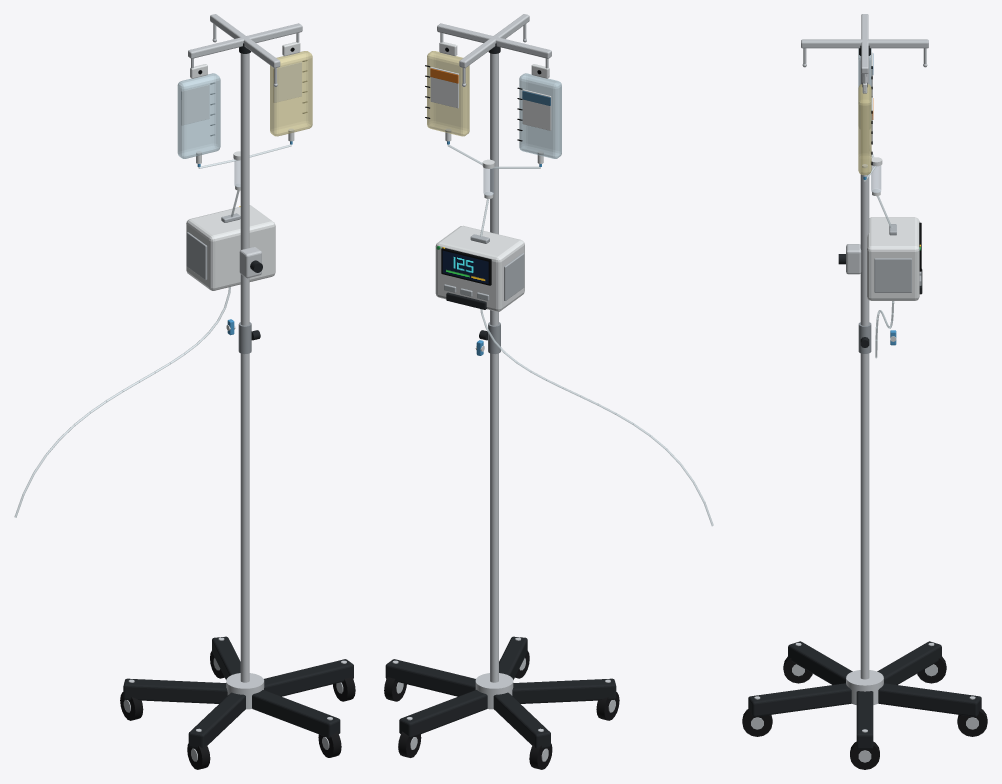
The model's file is IV_Stand_Pump.glb.
3 renders of one model, left to right at view 1: azimuth 30°, elevation 25°; view 2: azimuth 150°, elevation 25°; view 3: azimuth 270°, elevation 25°, orthographic.
Visible parts, largest first — view 1: Pole, Pump, IVBag0, IVBag1, Leg2.001, Leg4.001, Leg0.001, Leg3.001, HookArmX, IVLabel0, IVLabel1, Leg1.001 (+3 smaller); view 2: Pole, Pump, IVBag0, IVBag1, Leg3.001, Leg1.001, Leg0.001, Leg2.001, HookArmX, PumpScreen, IVLabel0, Leg4.001 (+4 smaller); view 3: Pole, Pump, Leg1.001, Leg4.001, Leg2.001, Leg3.001, PumpSideGrip.001, IVBag1, HookArmY, Leg0.001, Hub.001, Wheel.009 (+4 smaller).
Part boxes in pixels (<box>): Pole: <box>240,53,249,682</box>; Pump: <box>186,205,275,290</box>; IVBag0: <box>177,73,220,158</box>; IVBag1: <box>270,51,312,136</box>; Leg2.001: <box>123,678,227,703</box>; Leg4.001: <box>252,690,340,738</box>; Leg0.001: <box>264,659,353,696</box>; Leg3.001: <box>188,692,245,748</box>; HookArmX: <box>188,23,302,58</box>; IVLabel0: <box>181,84,209,125</box>; IVLabel1: <box>274,62,301,102</box>; Leg1.001: <box>212,636,240,679</box>; Pole: <box>490,53,498,682</box>; Pump: <box>435,225,524,311</box>; IVBag0: <box>519,73,561,158</box>; IVBag1: <box>427,51,469,136</box>; Leg3.001: <box>512,678,616,703</box>; Leg1.001: <box>399,690,487,738</box>; Leg0.001: <box>385,659,475,696</box>; Leg2.001: <box>493,692,550,748</box>; HookArmX: <box>437,23,551,58</box>; PumpScreen: <box>442,250,488,283</box>; IVLabel0: <box>522,89,551,130</box>; Leg4.001: <box>499,636,527,679</box>; Pole: <box>860,56,869,679</box>; Pump: <box>867,217,919,300</box>; Leg1.001: <box>878,683,981,716</box>; Leg4.001: <box>748,683,851,716</box>; Leg2.001: <box>877,641,941,684</box>; Leg3.001: <box>788,641,852,684</box>; PumpSideGrip.001: <box>874,258,911,292</box>; IVBag1: <box>858,84,871,174</box>; HookArmY: <box>801,39,928,48</box>; Leg0.001: <box>856,691,873,749</box>; Hub.001: <box>846,670,883,704</box>; Wheel.009: <box>850,741,879,769</box>.
Bounding box in the file's own units: 1 × 1.99 × 0.6506.
17 materials, 1 textured.
